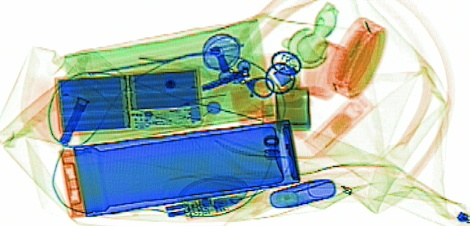powerbank: (53, 64, 205, 136)
